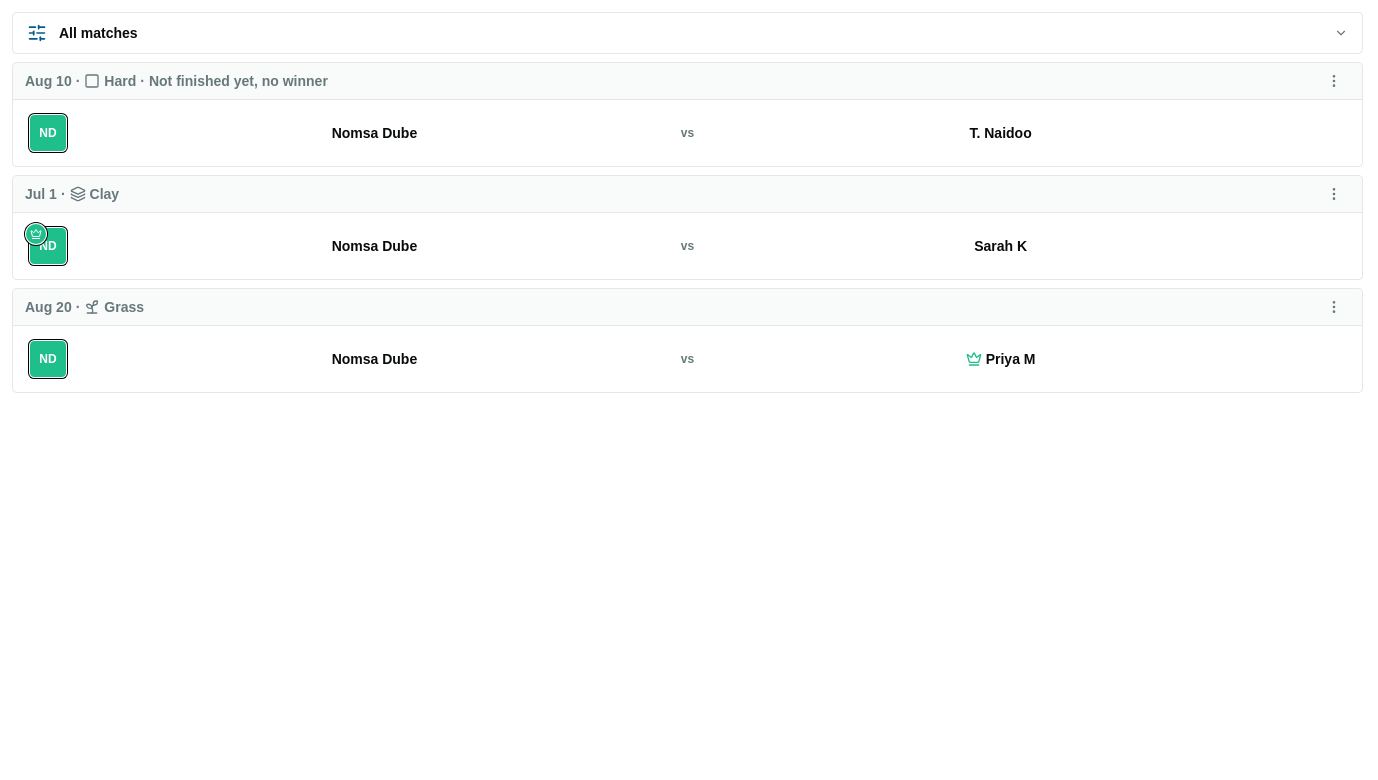
it: filters by result
This screenshot has width=1378, height=780.
Expected: the text "T. Naidoo" is shown, [970, 123, 1032, 143]
Step 1. Click the button "All matches" → (98, 33), box [12, 12, 1363, 54]
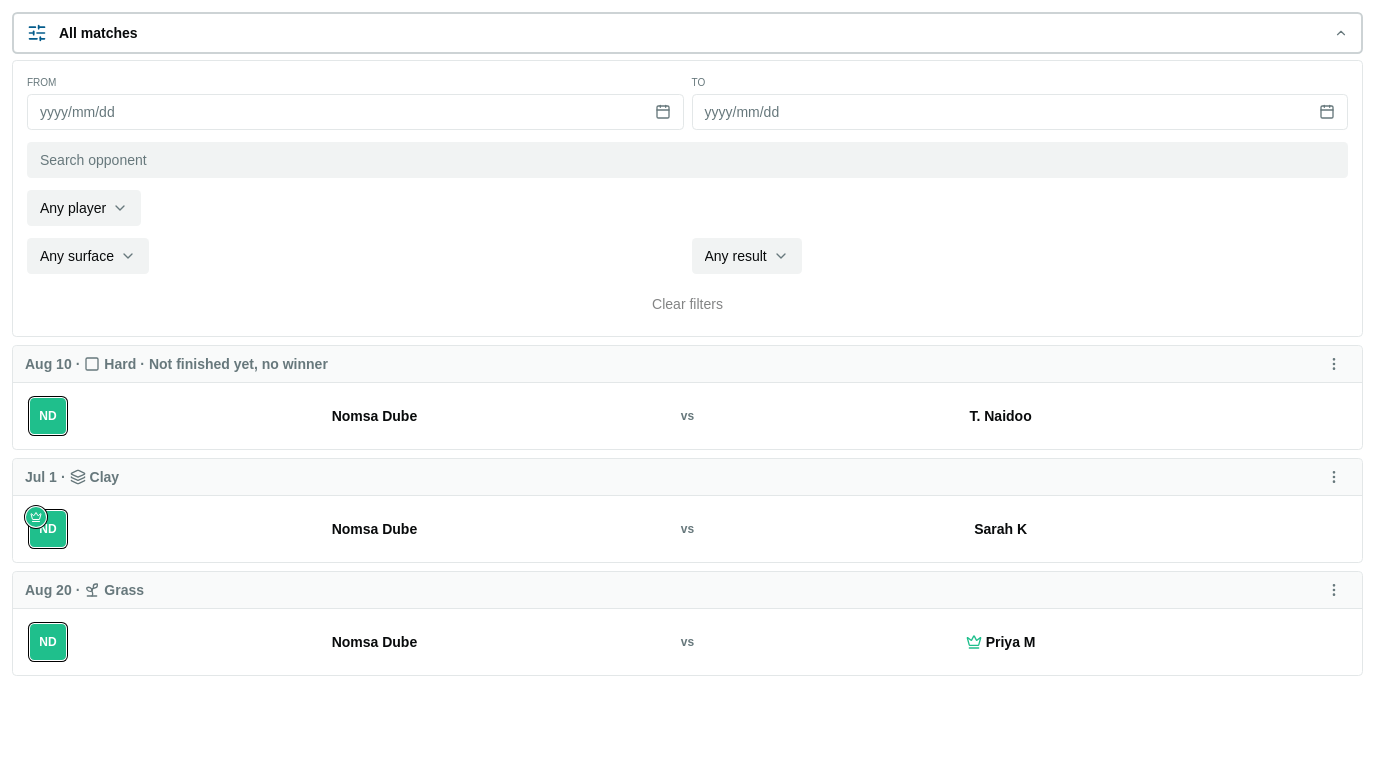
Step 2. Click the dropdown labelled "result" → (747, 256), box [692, 238, 802, 274]
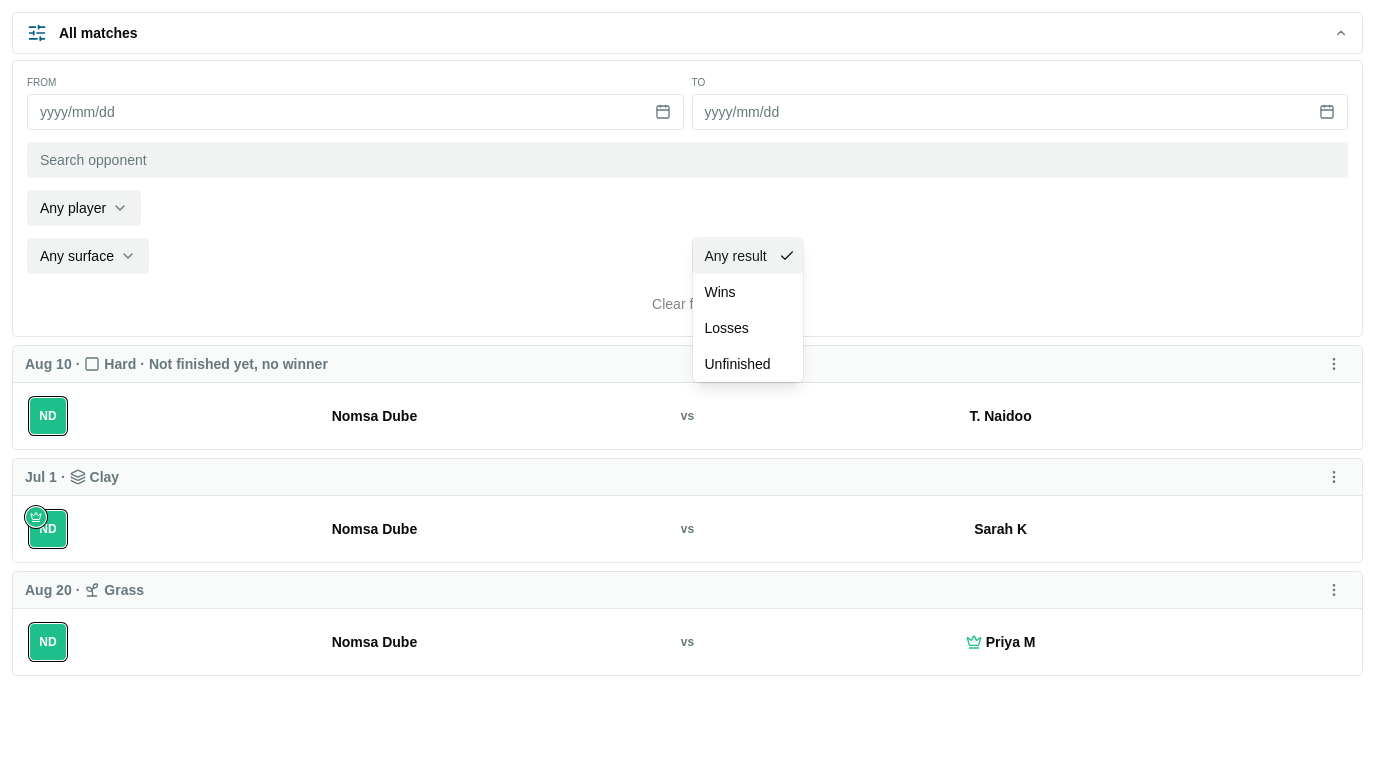
Step 3. Click the option "Losses" → (727, 328), box [704, 320, 749, 336]
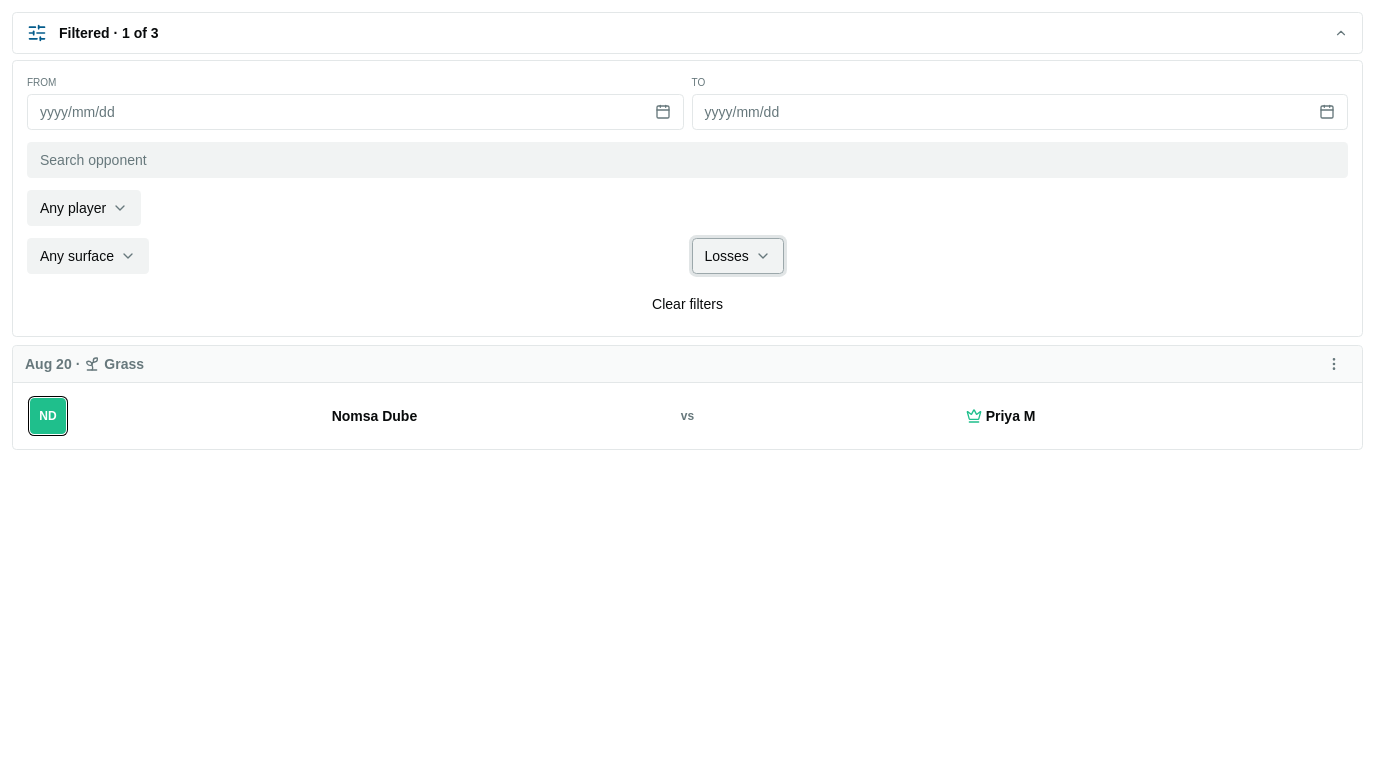
Expected: the text "Priya M" is shown, [986, 406, 1036, 426]
Result: the link "Sarah K" is gone
